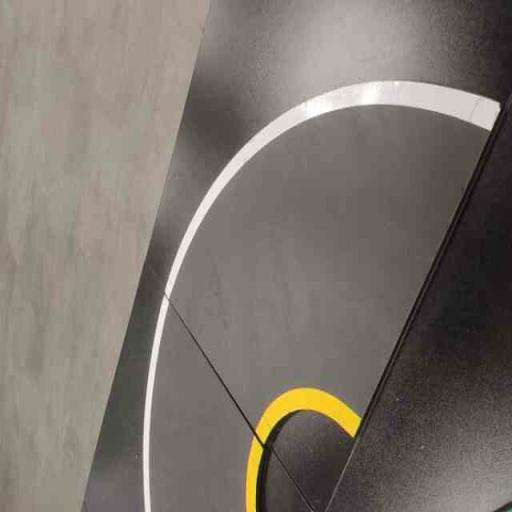left: (150, 9, 506, 511)
